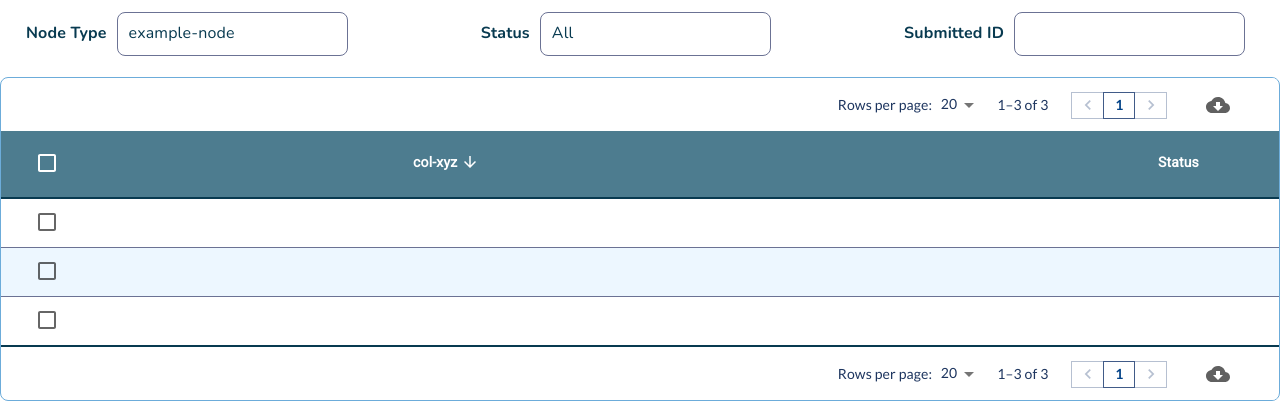
SubmittedData > Table › should check the header checkbox when all rows are manually selected
Check: the 1st checkbox is not checked, box top-left (25, 153), bottom-right (59, 175)
# Manually select first row
Click the 2nd checkbox: {"x": 42, "y": 223} top-left (25, 212), bottom-right (59, 234)
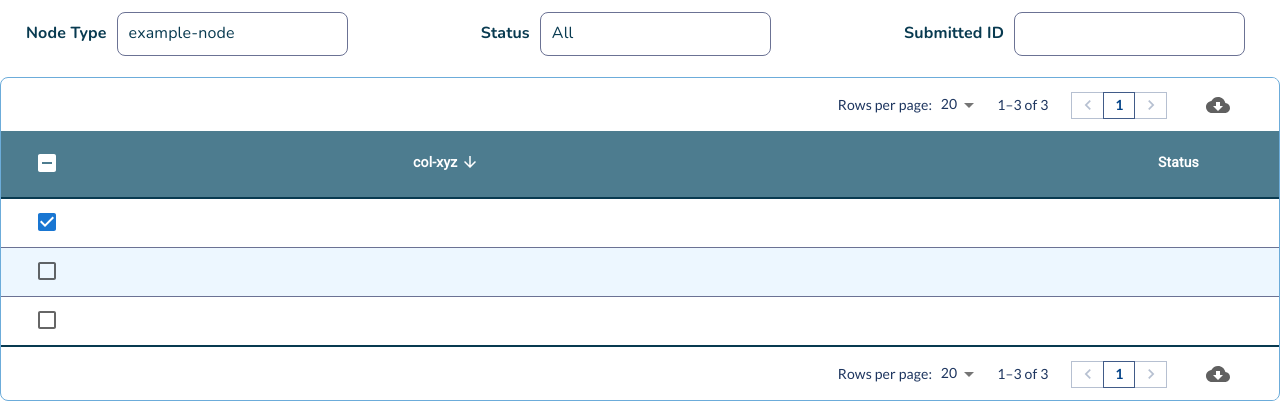
Check: the 2nd checkbox is checked, box top-left (25, 212), bottom-right (59, 234)
# Manually select second row
Click the 3rd checkbox: {"x": 42, "y": 272} top-left (25, 261), bottom-right (59, 283)
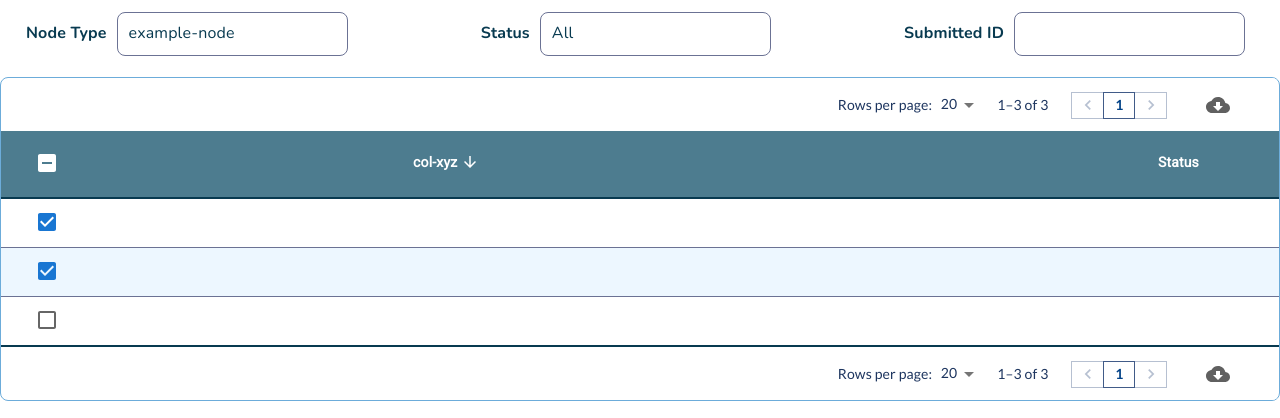
Check: the 3rd checkbox is checked, box top-left (25, 261), bottom-right (59, 283)
# Manually select third row (all rows now selected)
Click the 4th checkbox: {"x": 42, "y": 321} top-left (25, 310), bottom-right (59, 332)
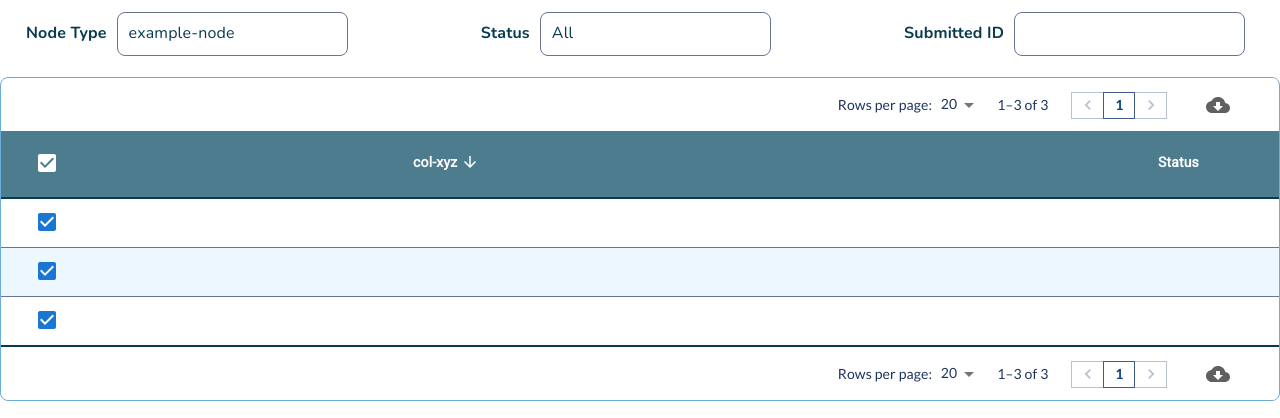
Check: the 4th checkbox is checked, box top-left (25, 310), bottom-right (59, 332)
Check: the 1st checkbox is checked, box top-left (25, 153), bottom-right (59, 175)
